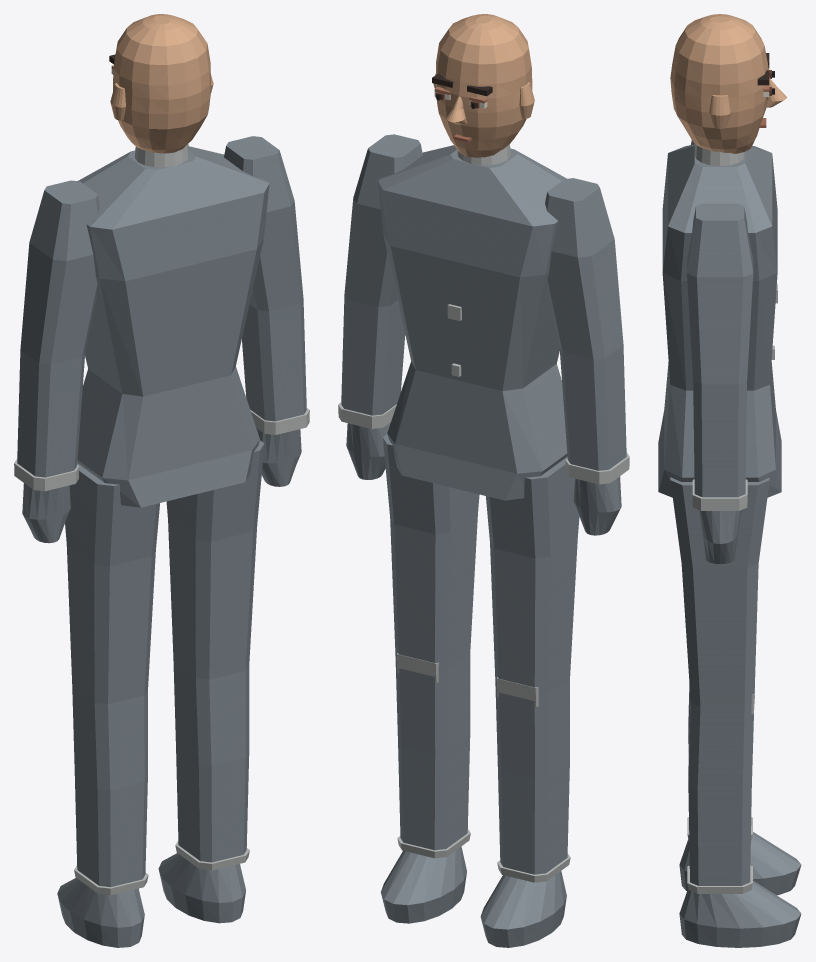
3 renders of one model, left to right at view 1: azimuth 30°, elevation 25°; view 2: azimuth 150°, elevation 25°; view 3: azimuth 270°, elevation 25°, orthographic.
Visible parts, largest first — view 1: 精细体素成年人体母版A（直线肩胯） · thin局部派生, 精细成年头部母版; view 2: 精细体素成年人体母版A（直线肩胯） · thin局部派生, 精细成年头部母版; view 3: 精细体素成年人体母版A（直线肩胯） · thin局部派生, 精细成年头部母版.
Boxes of the visible parts, x1=… form: 精细体素成年人体母版A（直线肩胯） · thin局部派生: x1=14, y1=136, x2=309, y2=947; 精细成年头部母版: x1=109, y1=14, x2=213, y2=153; 精细体素成年人体母版A（直线肩胯） · thin局部派生: x1=338, y1=134, x2=629, y2=947; 精细成年头部母版: x1=432, y1=14, x2=534, y2=157; 精细体素成年人体母版A（直线肩胯） · thin局部派生: x1=658, y1=140, x2=801, y2=947; 精细成年头部母版: x1=670, y1=14, x2=786, y2=153.
Bounding box in the file's own units: 0.5458 × 1.7 × 0.2474.
9 materials, 9 textured.
